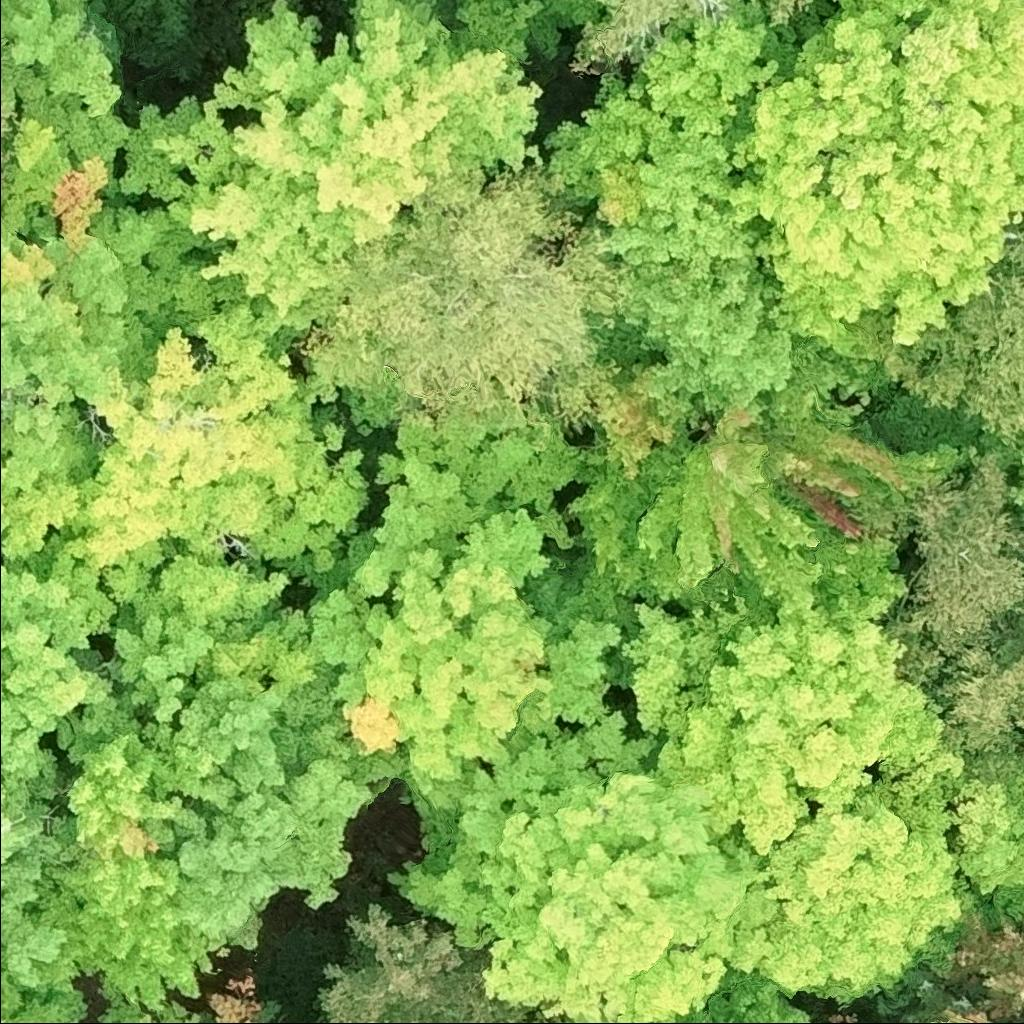crown: (116, 0, 547, 356), (304, 407, 634, 828), (73, 537, 405, 953), (724, 0, 1023, 421), (539, 0, 799, 482), (383, 710, 782, 1023), (607, 566, 953, 855), (48, 303, 390, 591), (563, 387, 985, 613), (0, 117, 203, 563), (306, 158, 628, 436), (755, 749, 1004, 1006), (29, 712, 223, 1011), (873, 452, 1023, 688), (885, 223, 1023, 467), (0, 537, 117, 803), (0, 768, 92, 1023), (0, 0, 135, 163), (314, 901, 469, 1023), (921, 616, 1023, 759), (565, 0, 725, 79), (951, 751, 1023, 924), (96, 968, 282, 1023), (433, 0, 595, 62), (943, 912, 1023, 1022), (708, 969, 816, 1023), (0, 99, 19, 183), (754, 0, 813, 26), (1006, 435, 1023, 525), (936, 1006, 998, 1023), (692, 1010, 737, 1023), (829, 1009, 857, 1023), (535, 1017, 562, 1023), (345, 1019, 374, 1023), (0, 964, 3, 982), (414, 1023, 415, 1023)
